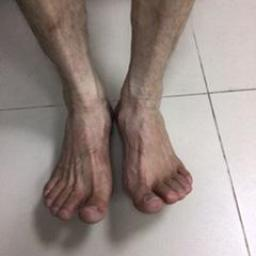Front View -Both Feet-: (28, 48, 199, 237)
